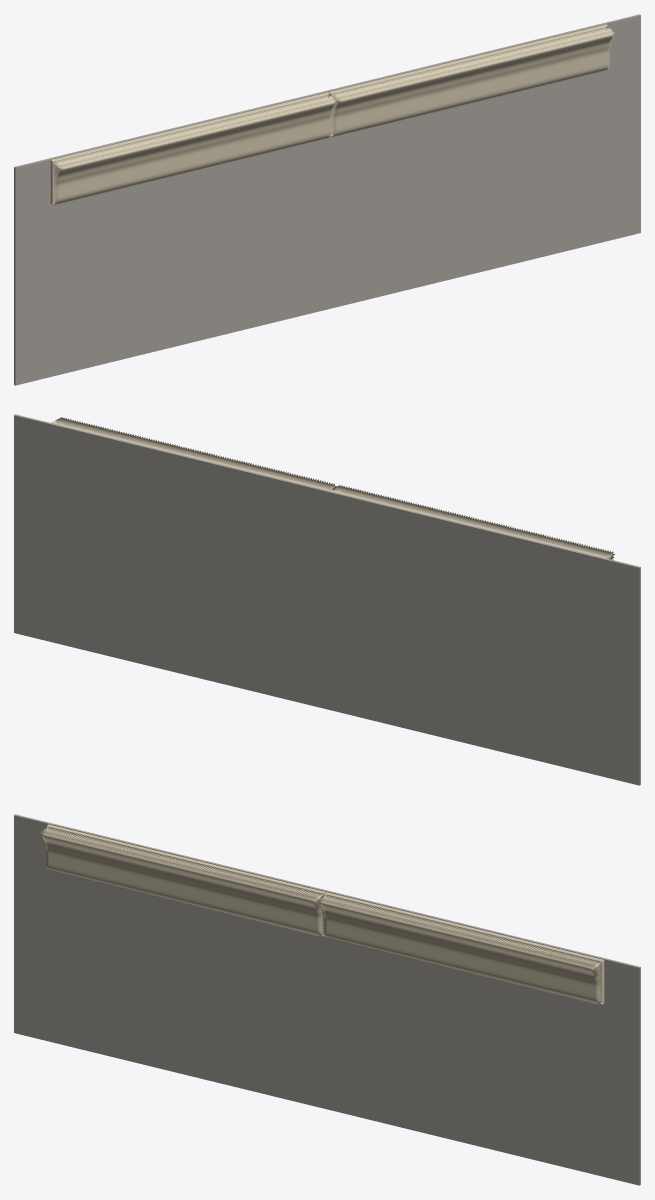
Rendered from terilgan.glb.
3 renders of one model, top to bottom at view 1: azimuth 30°, elevation 25°; view 2: azimuth 150°, elevation 25°; view 3: azimuth 330°, elevation 25°, orthographic.
Visible parts, largest first — view 1: Devor, t0, t1; view 2: Devor, t0, t1; view 3: Devor, t1, t0.
Part boxes in pixels (x1,y1,x2,y2): Devor: (14, 14, 640, 385); t0: (50, 92, 336, 204); t1: (328, 24, 614, 137); Devor: (14, 414, 640, 785); t0: (329, 485, 614, 560); t1: (51, 417, 336, 490); Devor: (14, 814, 640, 1185); t1: (318, 892, 604, 1004); t0: (40, 824, 326, 937).
Size of the model in its own units: 2.71 by 0.9 by 0.082.
